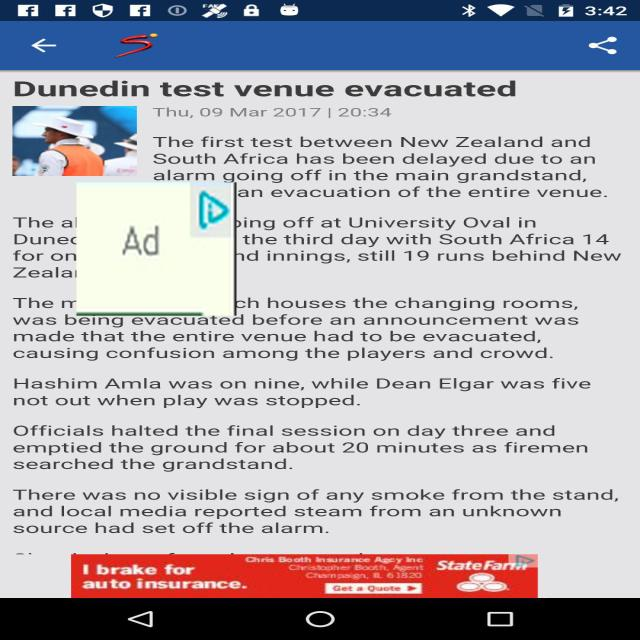sneaking: (76, 182, 236, 316)
